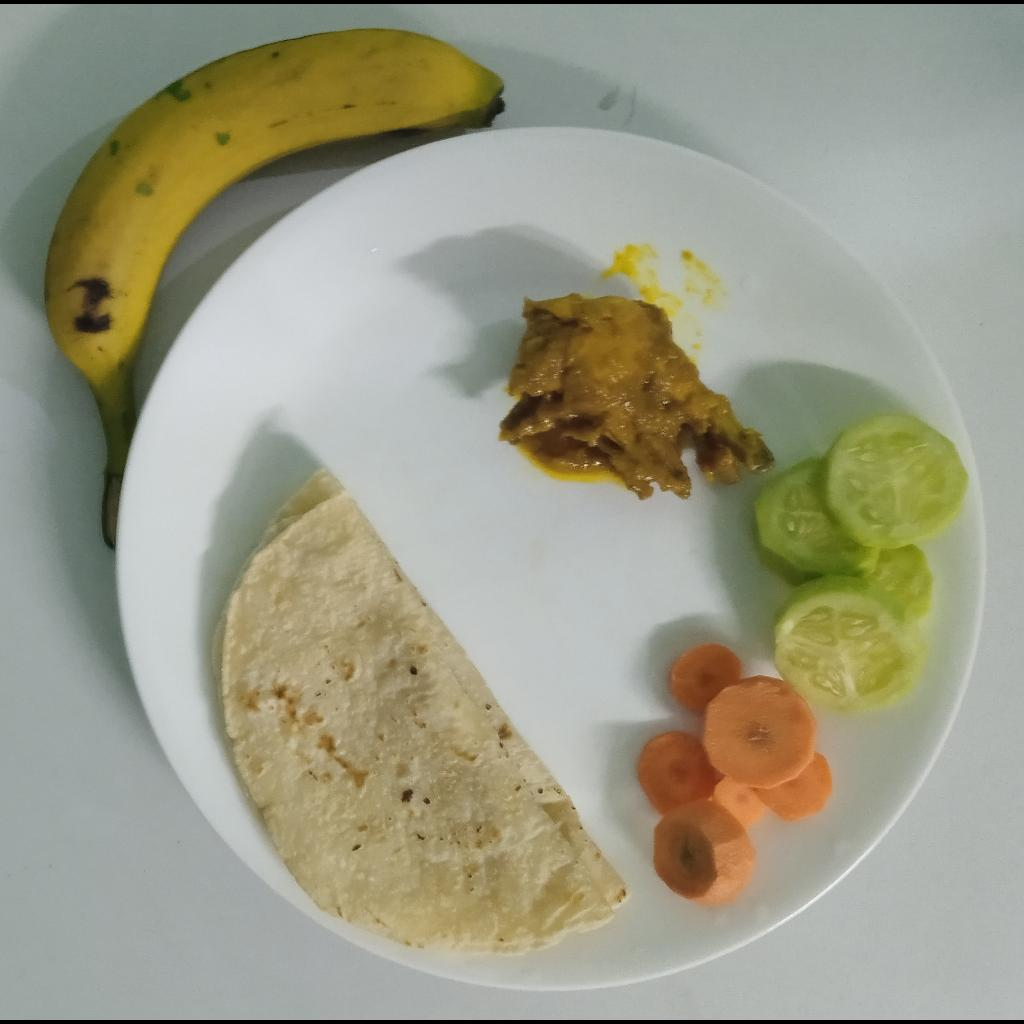banana: (45, 26, 507, 549)
carrot: (638, 642, 834, 909)
chicken: (499, 295, 773, 501)
cucumber: (755, 415, 970, 714)
ruti: (213, 468, 634, 954)
